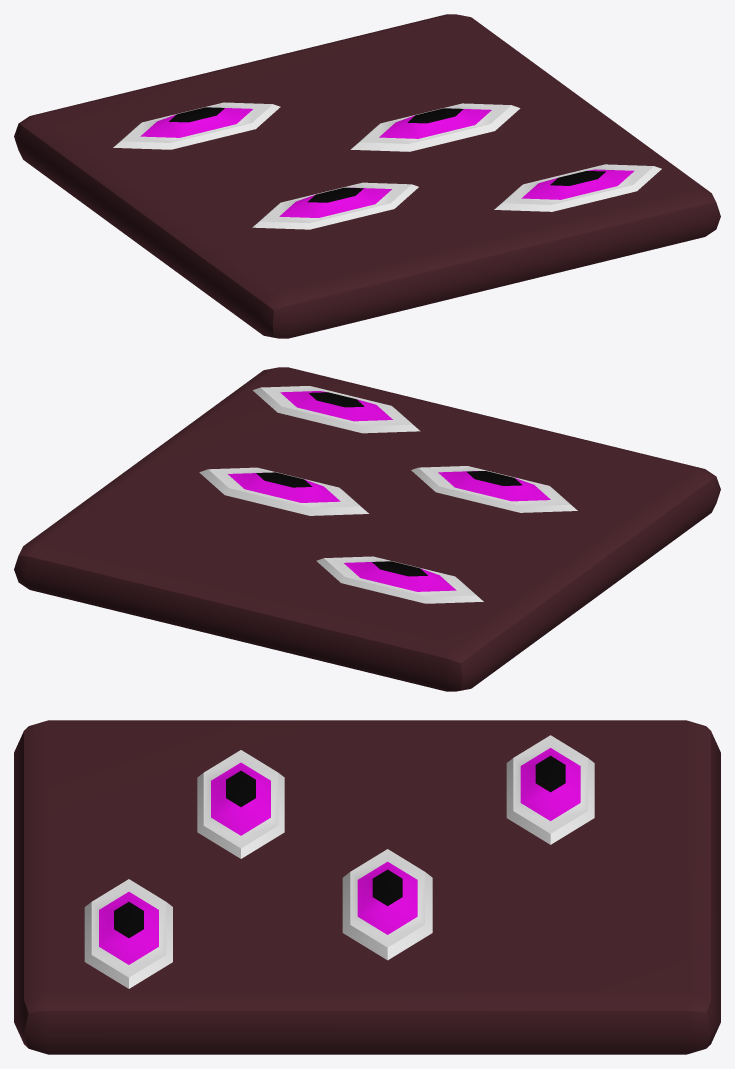
The model's file is Rune_Prop_4_Model.fbx.
3 views of the same model, one above another, from view 1: azimuth 30°, elevation 25°; view 2: azimuth 150°, elevation 25°; view 3: azimuth 270°, elevation 25° (orthographic). The views are drawn at different scales.
Parts seen in each view (by area): view 1: pCube2; view 2: pCube2; view 3: pCube2.
Boxes of the visible parts, x1,y1,x2,y2 form: pCube2: (14, 14, 720, 338); pCube2: (14, 367, 720, 691); pCube2: (14, 720, 720, 1054).
Bounding box in the file's own units: 1 × 0.1244 × 1.
